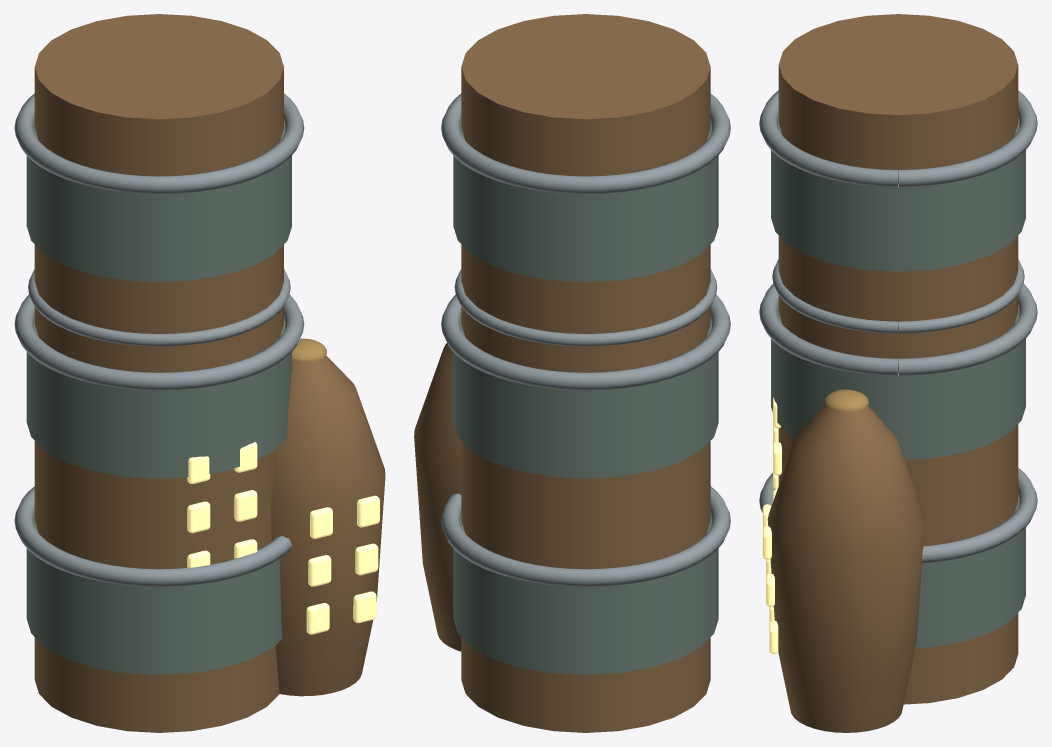
3 renders of one model, left to right at view 1: azimuth 30°, elevation 25°; view 2: azimuth 150°, elevation 25°; view 3: azimuth 270°, elevation 25°, orthographic. The views are drawn at different scales.
Visible parts, largest first — view 1: Cylindrical tower, Bulb shaped chamber, Fuel reservoir band.002, Fuel reservoir band.001, Fuel reservoir band, Fuel band upper rim.002, Fuel band upper rim.001, Fuel band upper rim, Tower seam, Inset service window.002, Inset service window.003, Inset service window.008 (+6 smaller); view 2: Cylindrical tower, Fuel reservoir band, Fuel reservoir band.001, Fuel reservoir band.002, Bulb shaped chamber, Fuel band upper rim.002, Fuel band upper rim, Fuel band upper rim.001, Tower seam; view 3: Cylindrical tower, Bulb shaped chamber, Fuel reservoir band.002, Fuel reservoir band.001, Fuel reservoir band, Fuel band upper rim.002, Fuel band upper rim.001, Tower seam, Fuel band upper rim, Tower crown.
Boxes of the visible parts, x1,y1,x2,y2 form: Cylindrical tower: (34,14,283,732); Bulb shaped chamber: (270,355,385,696); Fuel reservoir band.002: (26,121,291,282); Fuel reservoir band.001: (26,317,291,478); Fuel reservoir band: (26,514,282,674); Fuel band upper rim.002: (14,93,304,193); Fuel band upper rim.001: (14,295,304,390); Fuel band upper rim: (14,486,291,586); Tower seam: (28,269,290,346); Inset service window.002: (187,501,210,533); Inset service window.003: (234,490,257,521); Inset service window.008: (308,555,331,586); Cylindrical tower: (461,14,710,732); Fuel reservoir band: (453,514,718,674); Fuel reservoir band.001: (453,317,718,478); Fuel reservoir band.002: (453,121,718,282); Bulb shaped chamber: (414,343,461,651); Fuel band upper rim.002: (441,93,730,193); Fuel band upper rim: (441,486,730,586); Fuel band upper rim.001: (441,295,730,390); Tower seam: (454,269,717,346); Cylindrical tower: (778,14,1018,704); Bulb shaped chamber: (767,405,924,732); Fuel reservoir band.002: (771,117,1025,271); Fuel reservoir band.001: (771,306,1025,459); Fuel reservoir band: (915,494,1025,648); Fuel band upper rim.002: (759,90,1037,186); Fuel band upper rim.001: (759,284,1037,375); Tower seam: (772,259,1024,333); Fuel band upper rim: (759,468,1037,563); Tower crown: (824,389,868,411).
Bounding box in the file's own units: 1.34 × 2.5 × 1.07.
